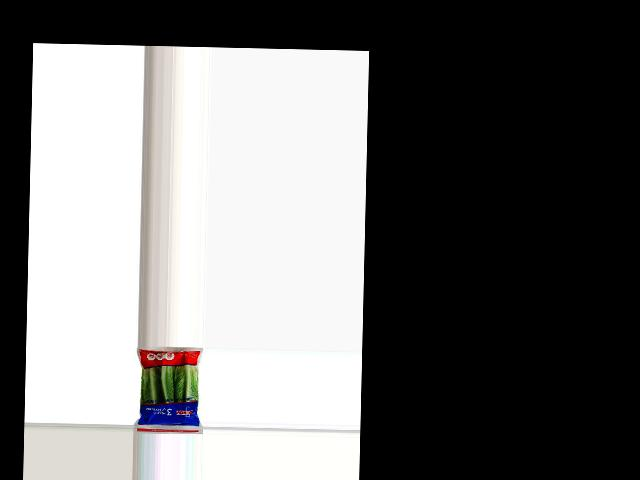lettuce: (136, 346, 201, 428)
